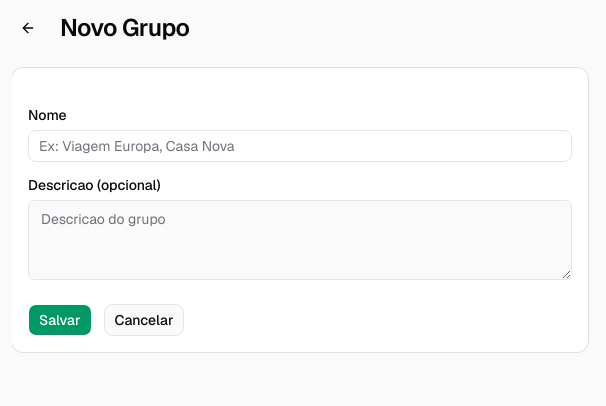
Scenario: NovoGrupoPage › exibe erro de api quando criacao falha
The width and height of the screenshot is (606, 406).
Step 1. Type "Viagem Europa" into the field labelled "Nome" → x=300, y=146, box [28,130,572,162]
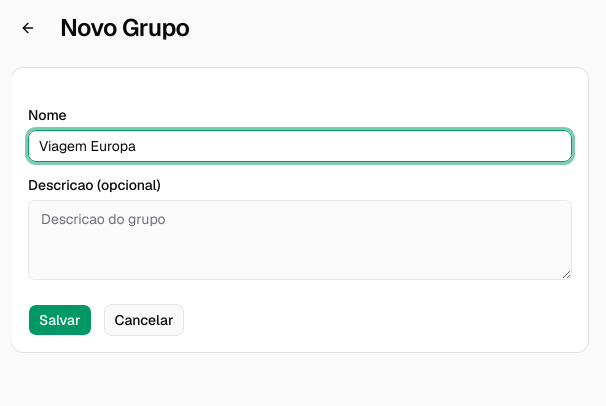
Step 2. Click the button "Salvar" → x=60, y=320, box [28,304,92,336]
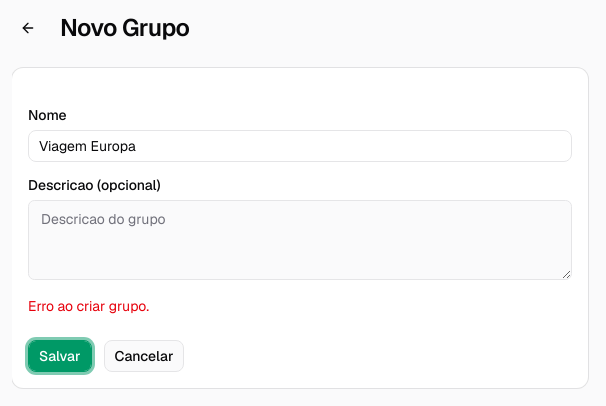
Now the text "Erro ao criar grupo." is shown, box [28,297,149,315]
